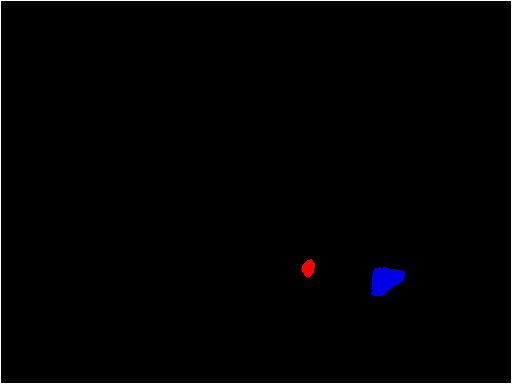chipped: (373, 271, 396, 295)
detached: (300, 262, 314, 274)
